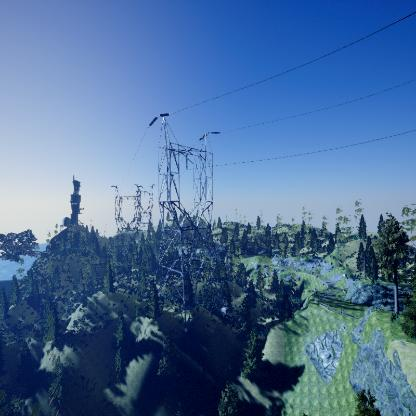tower: (147, 109, 232, 313), (110, 181, 144, 264)
